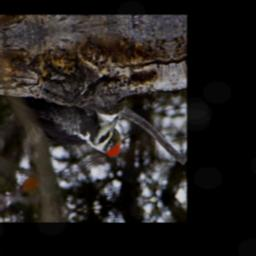Woodpecker: (19, 84, 125, 171)
